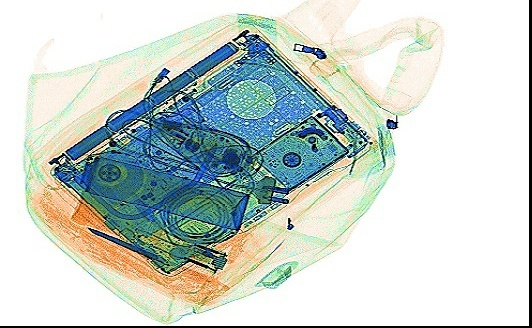pressure: (77, 153, 250, 232)
